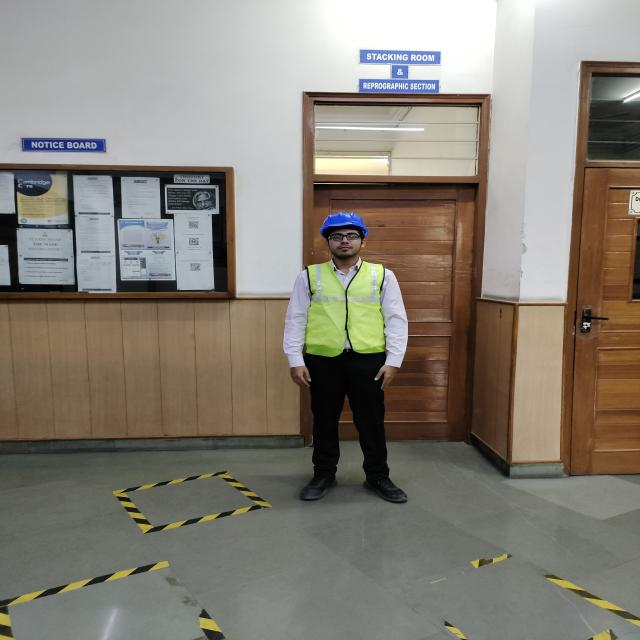safe: (284, 212, 408, 501)
